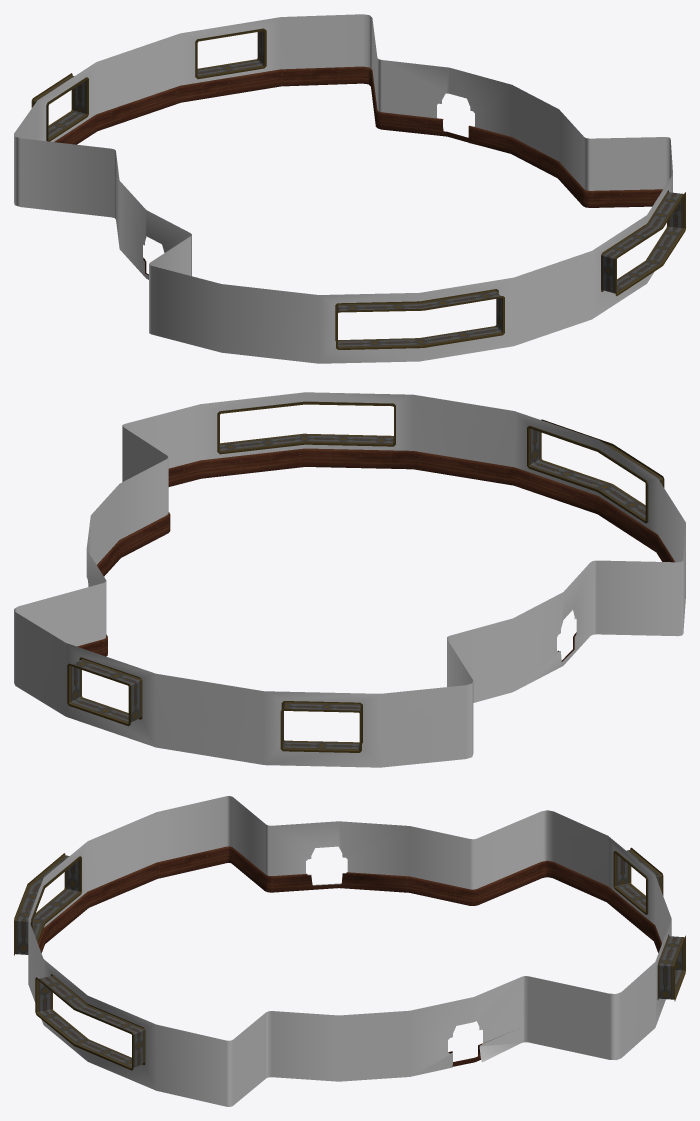
Rendered from walls room.obj.
The picture shows the model from 3 angles, top to bottom: view 1: azimuth 30°, elevation 25°; view 2: azimuth 150°, elevation 25°; view 3: azimuth 270°, elevation 25°; orthographic projection. The views are drawn at different scales.
Parts seen in each view (by area): view 1: wallsurface, windowholes, walledge; view 2: wallsurface, walledge, windowholes; view 3: wallsurface, walledge, windowholes.
Boxes of the visible parts, x1,y1,x2,y2 form: wallsurface: (14, 14, 672, 363); windowholes: (31, 28, 685, 349); walledge: (54, 66, 662, 275); wallsurface: (14, 392, 685, 767); walledge: (77, 448, 674, 661); windowholes: (67, 401, 664, 752); wallsurface: (28, 796, 671, 1106); walledge: (38, 846, 661, 1066); windowholes: (14, 847, 685, 1070).
Size of the model in its own units: 182 by 23.2 by 212.
